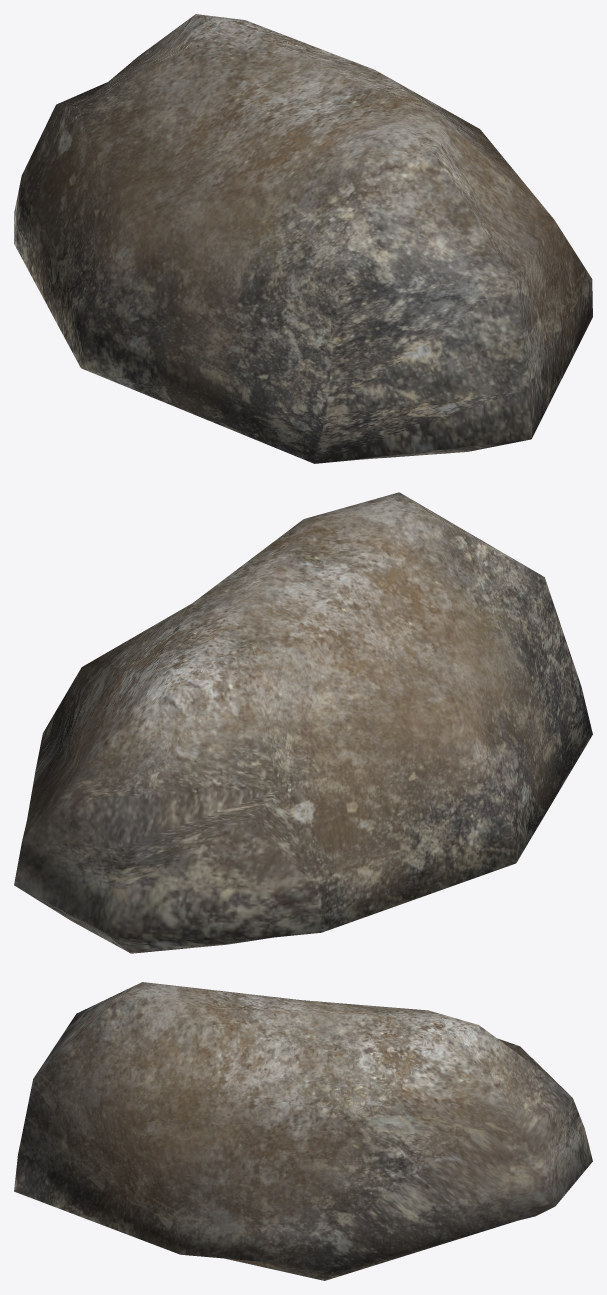
Rendered from Small Rock 2.FBX.
3 views of the same model, one above another, from view 1: azimuth 30°, elevation 25°; view 2: azimuth 150°, elevation 25°; view 3: azimuth 270°, elevation 25° (orthographic). The views are drawn at different scales.
Visible parts, largest first — view 1: Small Rock 2; view 2: Small Rock 2; view 3: Small Rock 2.
Boxes of the visible parts, x1=… form: Small Rock 2: x1=14, y1=14, x2=592, y2=463; Small Rock 2: x1=14, y1=492, x2=592, y2=953; Small Rock 2: x1=14, y1=982, x2=592, y2=1280.
Size of the model in its own units: 5.81 by 8.18 by 3.66.
